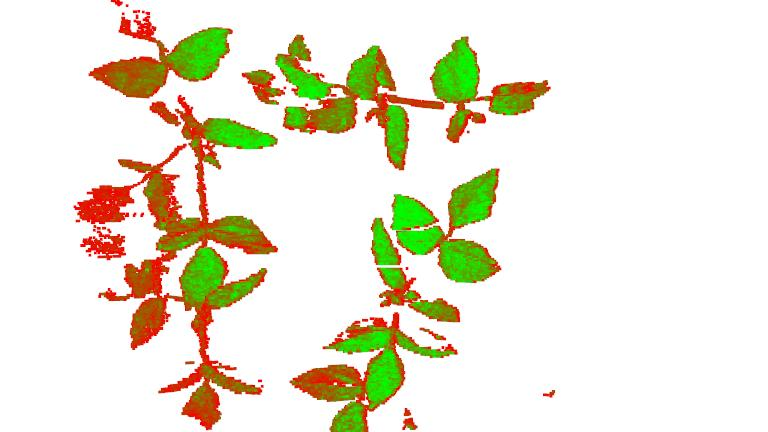mungbean: (74, 1, 281, 309), (289, 167, 508, 431), (280, 24, 552, 163), (129, 267, 271, 430)
